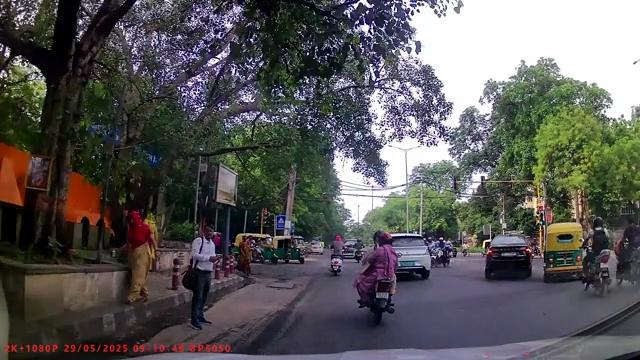motorcycle_with_helmet: (580, 217, 616, 297)
passenger_with_helmet: (352, 227, 399, 328)
